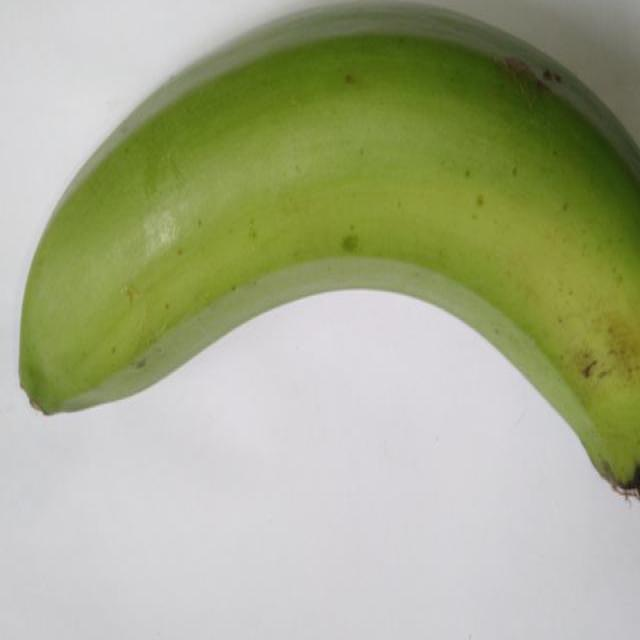Verde: (27, 32, 640, 508)
